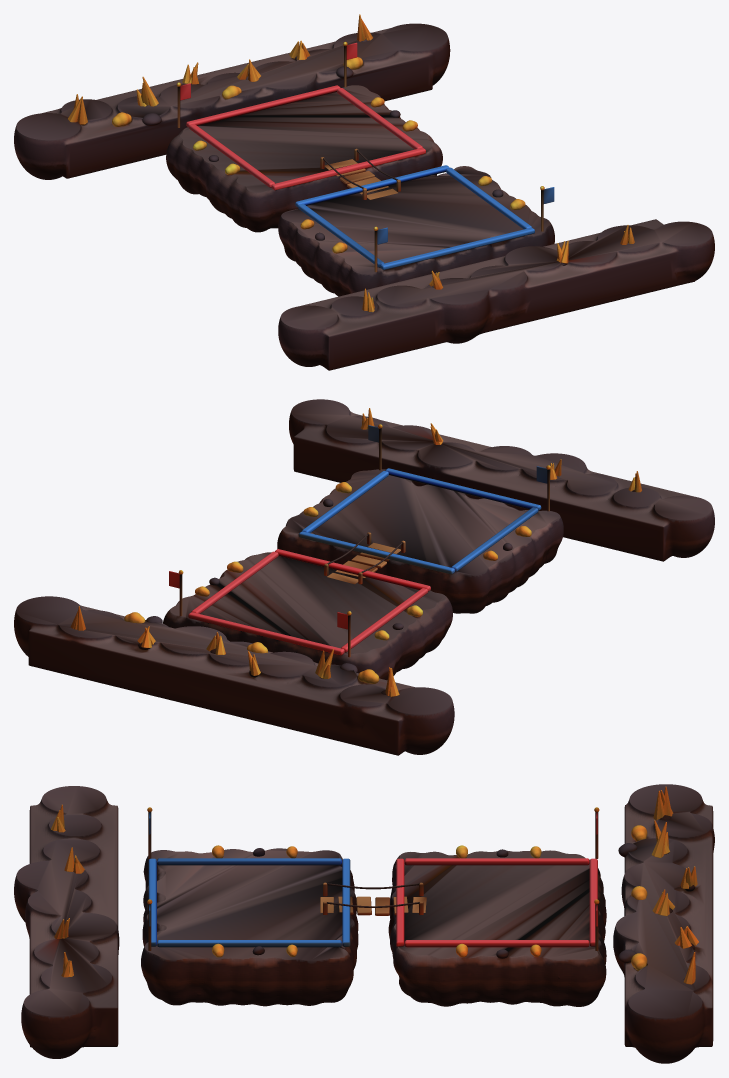
Rendered from volcan.glb.
3 renders of one model, top to bottom at view 1: azimuth 30°, elevation 25°; view 2: azimuth 150°, elevation 25°; view 3: azimuth 270°, elevation 25°, orthographic. The views are drawn at different scales.
Parts seen in each view (by area): view 1: arena; view 2: arena; view 3: arena.
Part boxes in pixels (x1=…): arena: x1=14, y1=14, x2=714, y2=370; arena: x1=14, y1=399, x2=714, y2=755; arena: x1=14, y1=784, x2=714, y2=1063.
Size of the model in its own units: 15.13 by 3.2 by 18.98.
